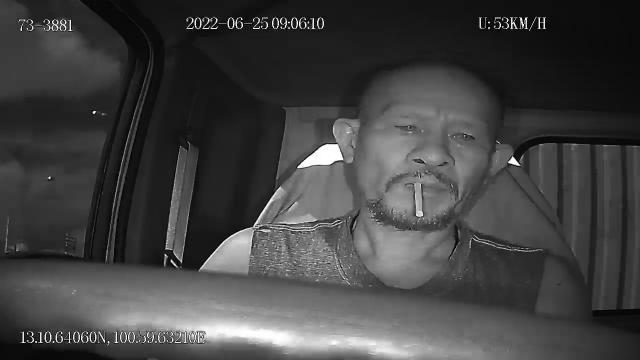SafeDriving: (442, 122, 482, 150), (385, 114, 429, 139)
Smoking: (413, 182, 423, 218)
